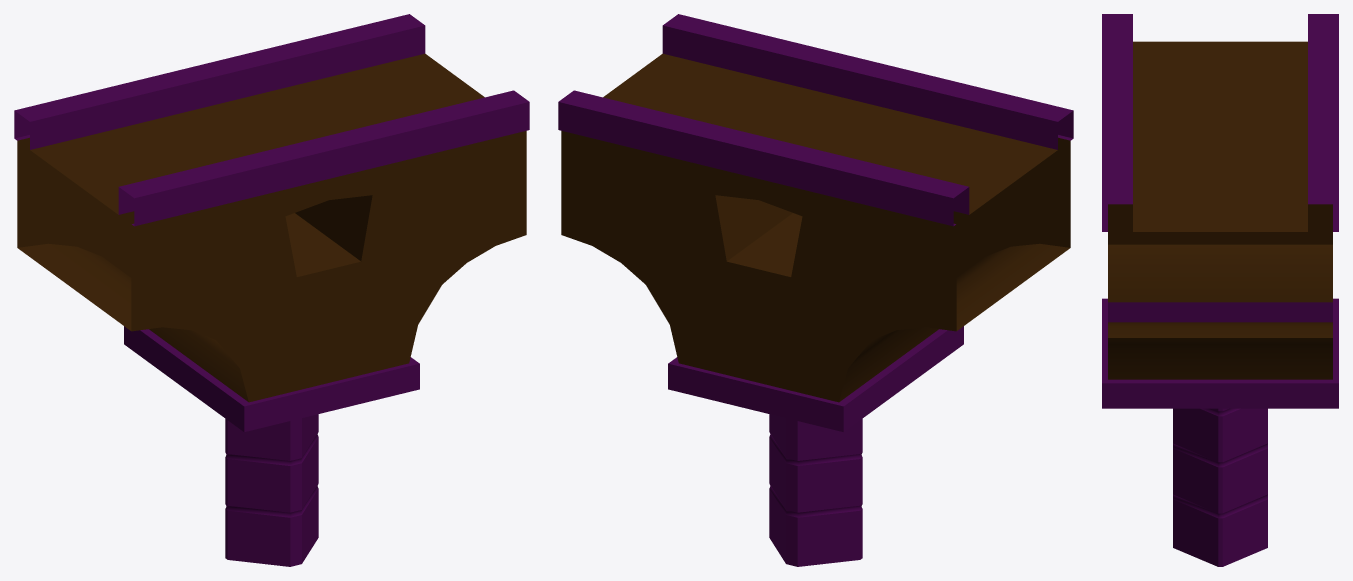
File: Bridge_Center_01.FBX
The picture shows the model from 3 angles, left to right: view 1: azimuth 30°, elevation 25°; view 2: azimuth 150°, elevation 25°; view 3: azimuth 270°, elevation 25°; orthographic projection.
Visible parts, largest first — view 1: Bridge_Center_01; view 2: Bridge_Center_01; view 3: Bridge_Center_01.
Part boxes in pixels (x1=…): Bridge_Center_01: x1=14, y1=14, x2=529, y2=566; Bridge_Center_01: x1=558, y1=14, x2=1073, y2=566; Bridge_Center_01: x1=1102, y1=14, x2=1338, y2=566.
Bounding box in the file's own units: 800 × 854 × 421.
